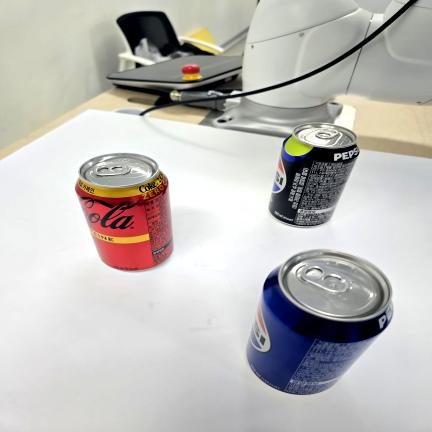can_coke_decaf: (72, 152, 176, 273)
can_pepsi: (243, 249, 395, 395)
can_pepsi_zero: (266, 124, 363, 230)
